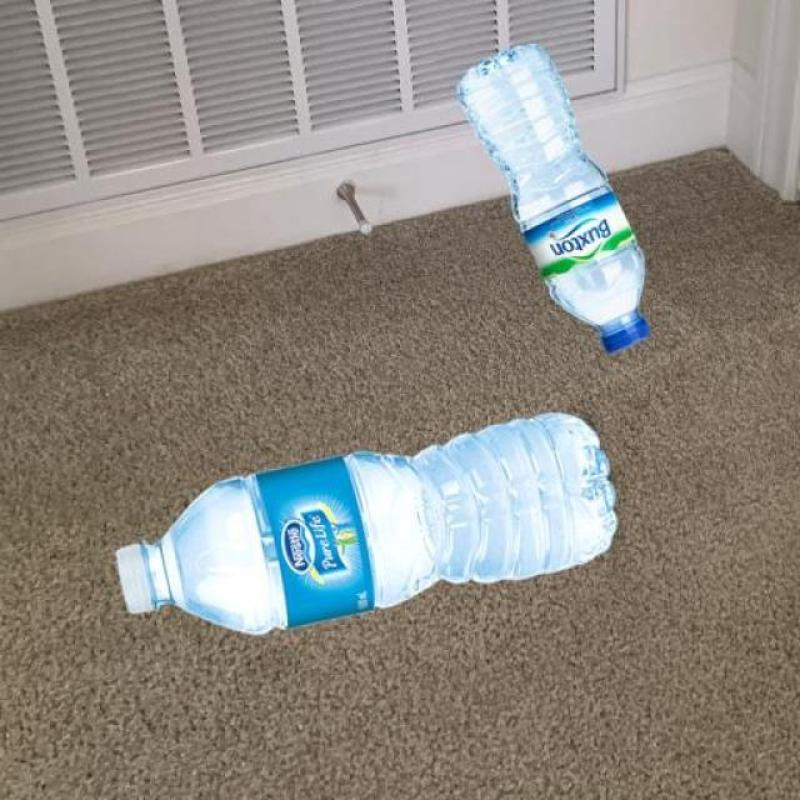botella: (116, 414, 620, 638), (450, 43, 650, 357)
